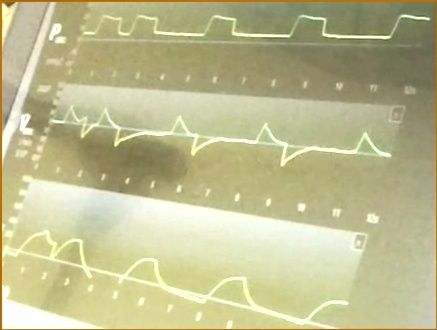Double_Triggering Flow: (56, 102, 390, 172)
Double_Triggering Volume: (13, 225, 350, 326)
